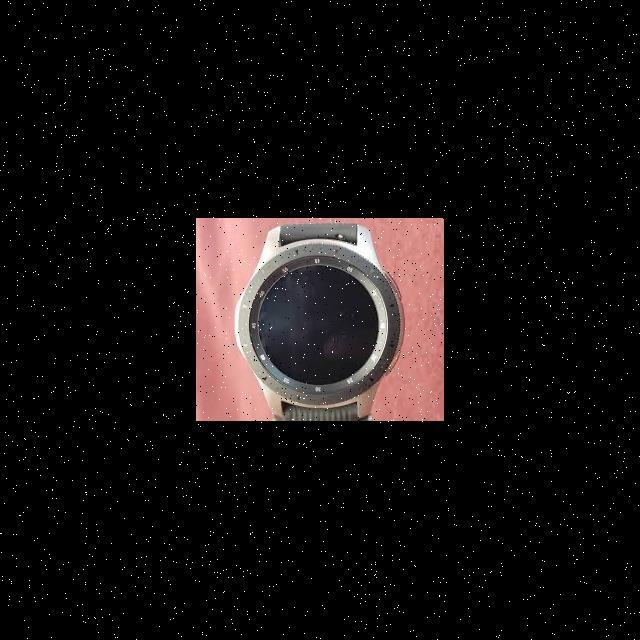watch: (227, 223, 408, 415)
